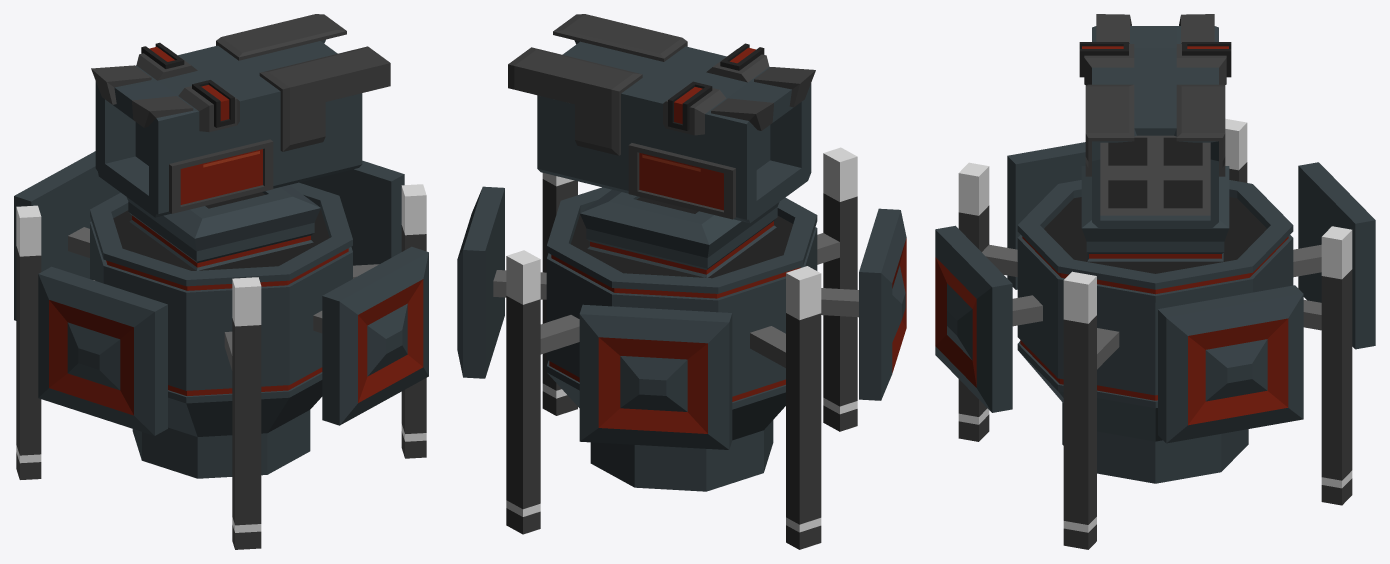
The model's file is MRLSPACE.fbx.
3 views of the same model, side by side, from view 1: azimuth 30°, elevation 25°; view 2: azimuth 150°, elevation 25°; view 3: azimuth 270°, elevation 25° (orthographic). The views are drawn at different scales.
Visible parts, largest first — view 1: Foundation, Turret, Base; view 2: Foundation, Turret, Base; view 3: Foundation, Turret, Base.
Part boxes in pixels (x1,y1,x2,y2): Foundation: (14,151,428,549); Turret: (91,14,390,217); Base: (126,185,320,270); Foundation: (457,147,906,549); Turret: (508,14,815,223); Base: (580,189,779,277); Foundation: (935,118,1375,549); Turret: (1079,14,1231,227); Base: (1081,166,1229,261).
Size of the model in its own units: 320 by 323 by 320.
Materials: 2 (1 with a texture image).
